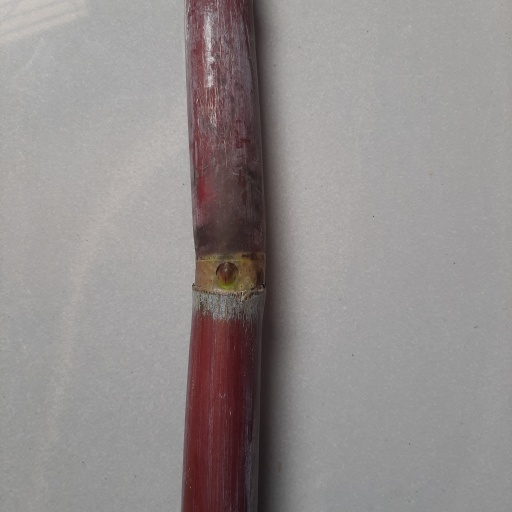Bud: (215, 262, 238, 287)
